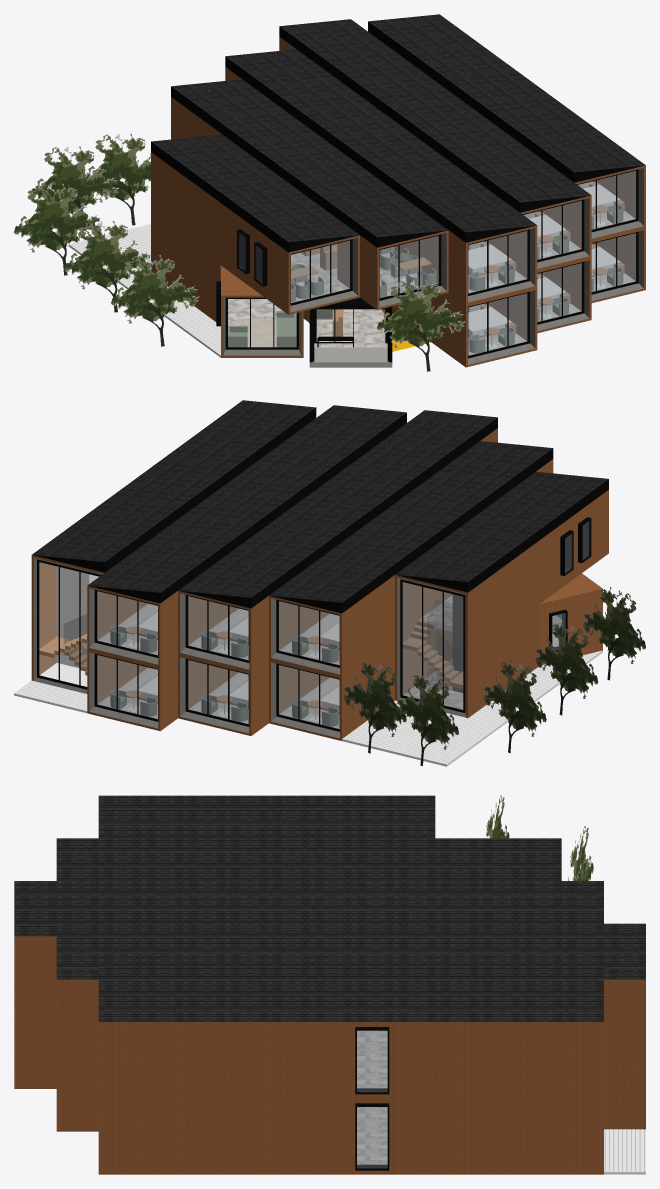
Rendered from 文旅民宿12间（自然风-渲染-贴图）.obj.
3 views of the same model, one above another, from view 1: azimuth 30°, elevation 25°; view 2: azimuth 150°, elevation 25°; view 3: azimuth 270°, elevation 25° (orthographic). The views are drawn at different scales.
Visible parts, largest first — view 1: Mesh937 Component_85_6 Component_86_6 G_2D_TREE6 Group1 Model, Mesh927 Component_85_1 Component_86_1 G_2D_TREE1 Group1 Model, Mesh222 Group199 Group198 Group196 Group1 Model, Mesh359 Group343 ___1_2 Group1 Model, Mesh933 Component_85_4 Component_86_4 G_2D_TREE4 Group1 Model, Mesh935 Component_85_5 Component_86_5 G_2D_TREE5 Group1 Model, Mesh723 Group728 ___1_9 Group1 Model, Mesh769 Group777 ___1_9 Group1 Model, Mesh67 Group81 Group80 Group78 Group1 Model, Mesh405 Group392 ___1_2 Group1 Model, Mesh226 Group204 Group198 Group196 Group1 Model, Mesh297 Group278 Group1 Model (+93 smaller); view 2: Mesh264 Group248 Group214 Group1 Model, Mesh237 Group218 Group214 Group1 Model, Mesh297 Group278 Group1 Model, Mesh411 Group398 ___1_3 Group1 Model, Mesh619 Group618 ___1_7 Group1 Model, Mesh567 Group563 ___1_6 Group1 Model, Mesh827 Group838 ___1_11 Group1 Model, Mesh307 Group288 ___1_1 Group1 Model, Mesh128 Group144 Group140 Group1 Model, Mesh235 Group216 Group214 Group1 Model, Mesh775 Group783 ___1_10 Group1 Model, Mesh821 Group832 ___1_10 Group1 Model (+100 smaller); view 3: Mesh126 Group142 Group140 Group1 Model, Mesh128 Group144 Group140 Group1 Model, Mesh155 Group174 Group140 Group1 Model, Mesh154 Group173 Group140 Group1 Model, Mesh156 Group175 Group140 Group1 Model, Mesh158 Group177 Group140 Group1 Model, Mesh359 Group343 ___1_2 Group1 Model, Mesh671 Group673 ___1_8 Group1 Model, Mesh723 Group728 ___1_9 Group1 Model, Mesh874 Group888 ___1_12 Group1 Model, Mesh875 Group889 ___1_12 Group1 Model, Mesh878 Group892 ___1_12 Group1 Model (+83 smaller).
Boxes of the visible parts, left/top/right/bottom form: Mesh937 Component_85_6 Component_86_6 G_2D_TREE6 Group1 Model: left=111, top=255, right=199, bottom=346; Mesh927 Component_85_1 Component_86_1 G_2D_TREE1 Group1 Model: left=377, top=280, right=465, bottom=371; Mesh222 Group199 Group198 Group196 Group1 Model: left=271, top=235, right=359, bottom=314; Mesh359 Group343 ___1_2 Group1 Model: left=448, top=225, right=537, bottom=304; Mesh933 Component_85_4 Component_86_4 G_2D_TREE4 Group1 Model: left=14, top=183, right=102, bottom=275; Mesh935 Component_85_5 Component_86_5 G_2D_TREE5 Group1 Model: left=64, top=220, right=152, bottom=312; Mesh723 Group728 ___1_9 Group1 Model: left=448, top=288, right=537, bottom=367; Mesh769 Group777 ___1_9 Group1 Model: left=468, top=293, right=527, bottom=355; Mesh67 Group81 Group80 Group78 Group1 Model: left=360, top=230, right=448, bottom=309; Mesh405 Group392 ___1_2 Group1 Model: left=468, top=231, right=527, bottom=293; Mesh226 Group204 Group198 Group196 Group1 Model: left=291, top=241, right=349, bottom=302; Mesh297 Group278 Group1 Model: left=68, top=224, right=220, bottom=357; Mesh264 Group248 Group214 Group1 Model: left=403, top=582, right=462, bottom=709; Mesh237 Group218 Group214 Group1 Model: left=395, top=575, right=485, bottom=717; Mesh297 Group278 Group1 Model: left=342, top=650, right=602, bottom=766; Mesh411 Group398 ___1_3 Group1 Model: left=87, top=586, right=177, bottom=667; Mesh619 Group618 ___1_7 Group1 Model: left=87, top=649, right=177, bottom=731; Mesh567 Group563 ___1_6 Group1 Model: left=178, top=590, right=268, bottom=672; Mesh827 Group838 ___1_11 Group1 Model: left=178, top=654, right=268, bottom=735; Mesh307 Group288 ___1_1 Group1 Model: left=269, top=595, right=359, bottom=677; Mesh128 Group144 Group140 Group1 Model: left=31, top=555, right=104, bottom=693; Mesh235 Group216 Group214 Group1 Model: left=416, top=567, right=503, bottom=704; Mesh775 Group783 ___1_10 Group1 Model: left=269, top=659, right=359, bottom=740; Mesh821 Group832 ___1_10 Group1 Model: left=279, top=665, right=339, bottom=728; Mesh126 Group142 Group140 Group1 Model: left=519, top=1022, right=561, bottom=1174; Mesh128 Group144 Group140 Group1 Model: left=561, top=1022, right=603, bottom=1174; Mesh155 Group174 Group140 Group1 Model: left=477, top=1022, right=519, bottom=1174; Mesh154 Group173 Group140 Group1 Model: left=435, top=1098, right=477, bottom=1174; Mesh156 Group175 Group140 Group1 Model: left=393, top=1098, right=435, bottom=1174; Mesh158 Group177 Group140 Group1 Model: left=435, top=1022, right=477, bottom=1098; Mesh359 Group343 ___1_2 Group1 Model: left=14, top=936, right=56, bottom=1012; Mesh671 Group673 ___1_8 Group1 Model: left=56, top=1055, right=98, bottom=1131; Mesh723 Group728 ___1_9 Group1 Model: left=14, top=1012, right=56, bottom=1088; Mesh874 Group888 ___1_12 Group1 Model: left=267, top=1098, right=309, bottom=1174; Mesh875 Group889 ___1_12 Group1 Model: left=140, top=1098, right=182, bottom=1174; Mesh878 Group892 ___1_12 Group1 Model: left=309, top=1098, right=351, bottom=1174.
Bounding box in the file's own units: 23577 × 6500 × 22517.
Materials: 20 (12 with a texture image).
